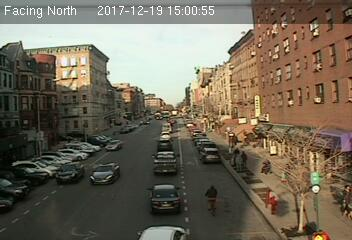bicycle: (203, 183, 219, 217)
car: (147, 183, 182, 214), (89, 162, 120, 186), (54, 161, 86, 184), (152, 151, 179, 173), (199, 148, 220, 162), (157, 138, 173, 151), (105, 139, 122, 151), (158, 131, 172, 139)
